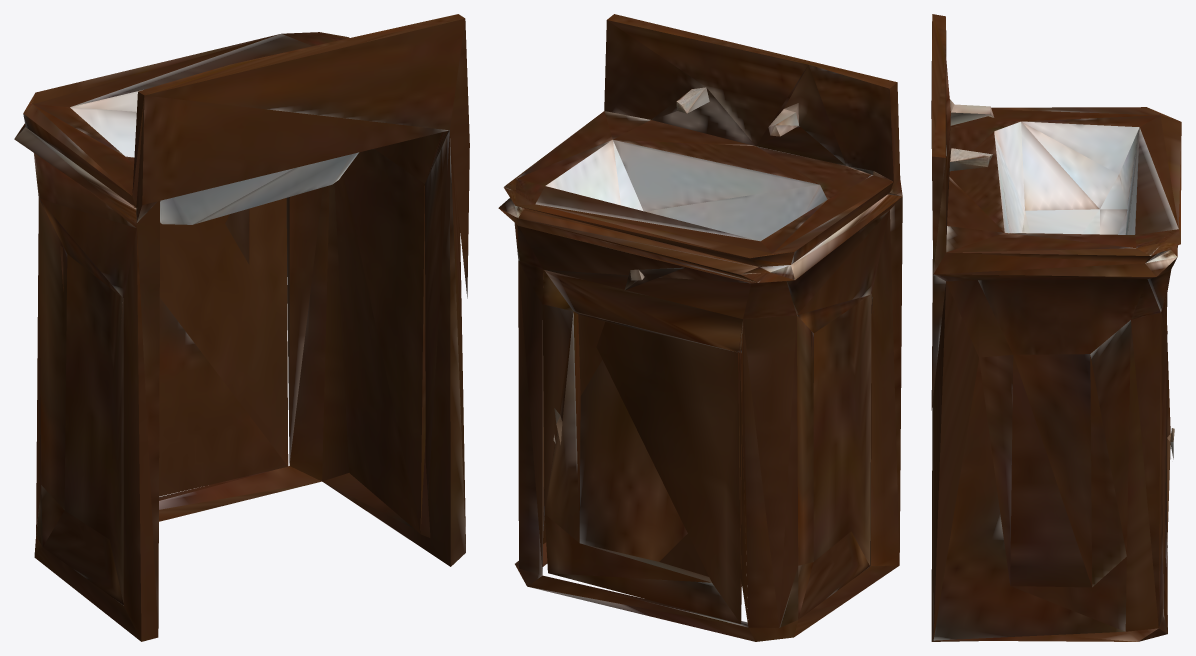
Rendered from mj-folding-lavatory.lod1.glb.
The picture shows the model from 3 angles, left to right: view 1: azimuth 30°, elevation 25°; view 2: azimuth 150°, elevation 25°; view 3: azimuth 270°, elevation 25°; orthographic projection. The views are drawn at different scales.
Parts seen in each view (by area): view 1: mj-folding-lavatory; view 2: mj-folding-lavatory; view 3: mj-folding-lavatory.
Part boxes in pixels (box(x1,y1,x2,y2)): mj-folding-lavatory: box(14, 14, 469, 641); mj-folding-lavatory: box(498, 14, 902, 641); mj-folding-lavatory: box(931, 14, 1181, 641).
Size of the model in its own units: 0.6701 by 1.05 by 0.48.
1 material, 1 textured.
